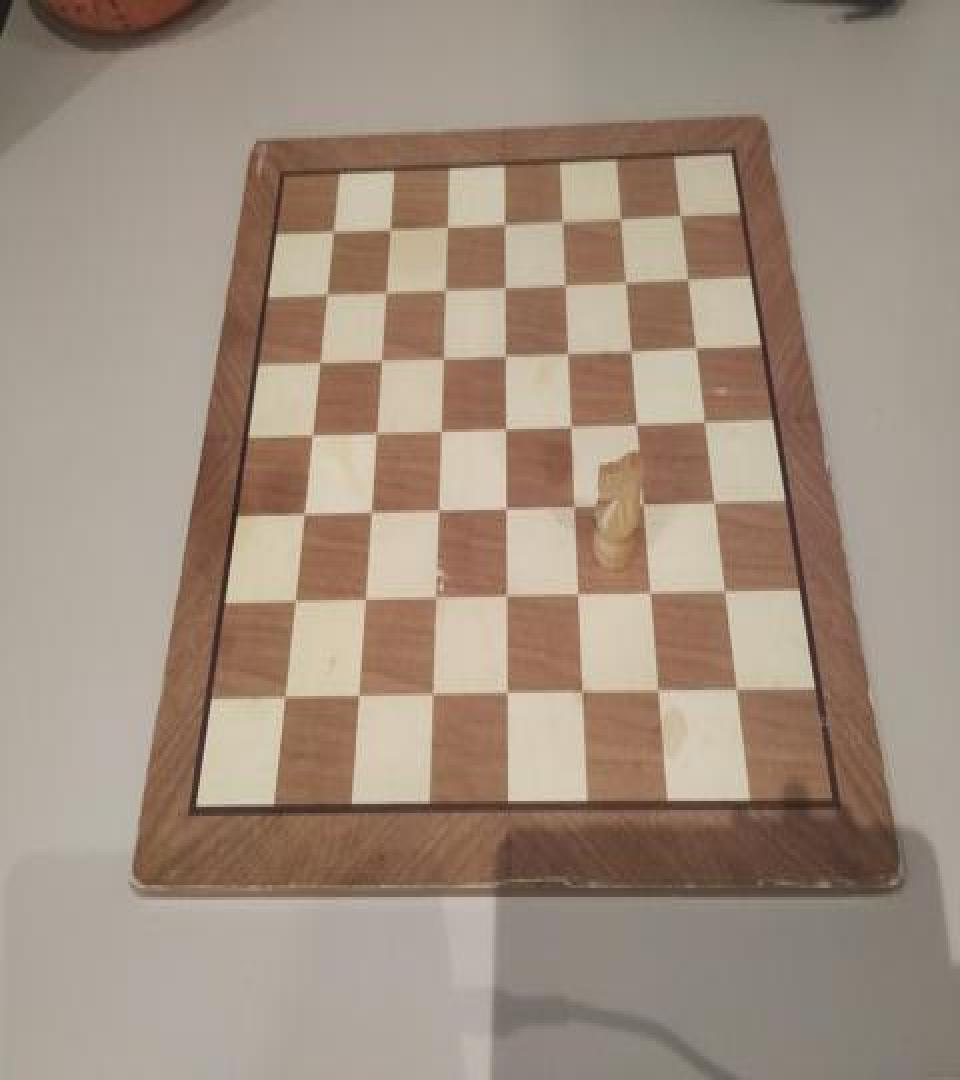xcorner: (669, 199, 689, 230), (275, 684, 295, 714), (422, 681, 442, 711), (497, 681, 517, 711), (572, 680, 592, 710), (648, 678, 668, 708), (725, 678, 745, 708), (355, 585, 375, 615), (425, 584, 445, 614), (496, 582, 516, 612), (641, 579, 661, 609), (714, 578, 734, 608), (294, 498, 314, 528), (361, 496, 381, 526), (428, 495, 448, 525), (496, 494, 516, 524), (564, 492, 584, 522), (633, 490, 653, 520), (703, 488, 723, 518), (302, 418, 322, 448), (366, 417, 386, 447), (431, 414, 451, 444), (495, 412, 515, 442), (561, 410, 581, 440), (627, 408, 647, 438), (693, 406, 713, 436), (310, 345, 330, 375), (371, 342, 391, 372), (433, 340, 453, 370), (495, 338, 515, 368), (558, 336, 578, 366), (621, 333, 641, 363), (684, 332, 704, 362), (317, 278, 337, 308), (376, 274, 396, 304), (435, 273, 455, 303), (495, 270, 515, 300), (555, 267, 575, 297), (615, 266, 635, 296), (676, 262, 696, 292), (324, 214, 344, 244), (380, 212, 400, 242), (437, 210, 457, 240), (494, 207, 514, 237), (552, 204, 572, 234), (610, 202, 630, 232), (348, 683, 368, 712), (285, 587, 305, 616), (568, 581, 588, 610)
